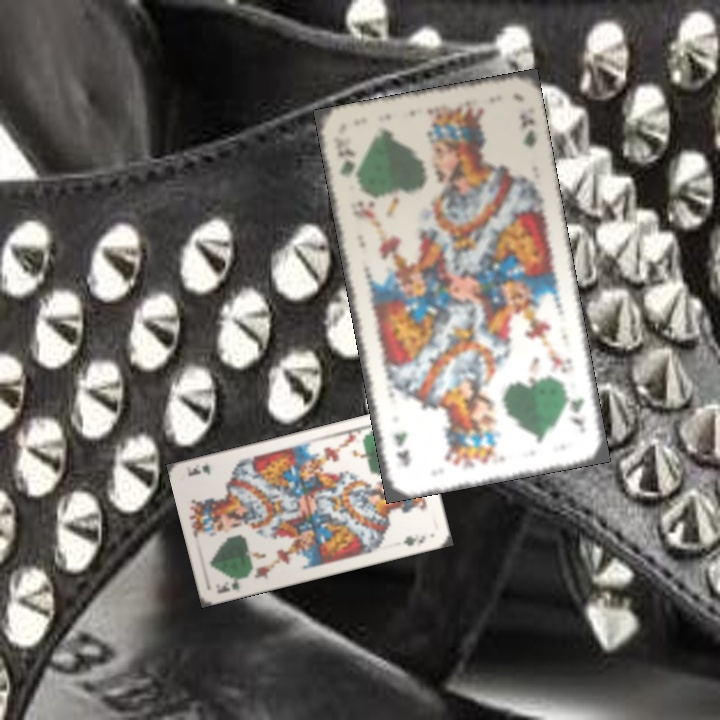GK: (561, 383, 588, 437), (334, 154, 361, 187), (213, 575, 242, 596)
